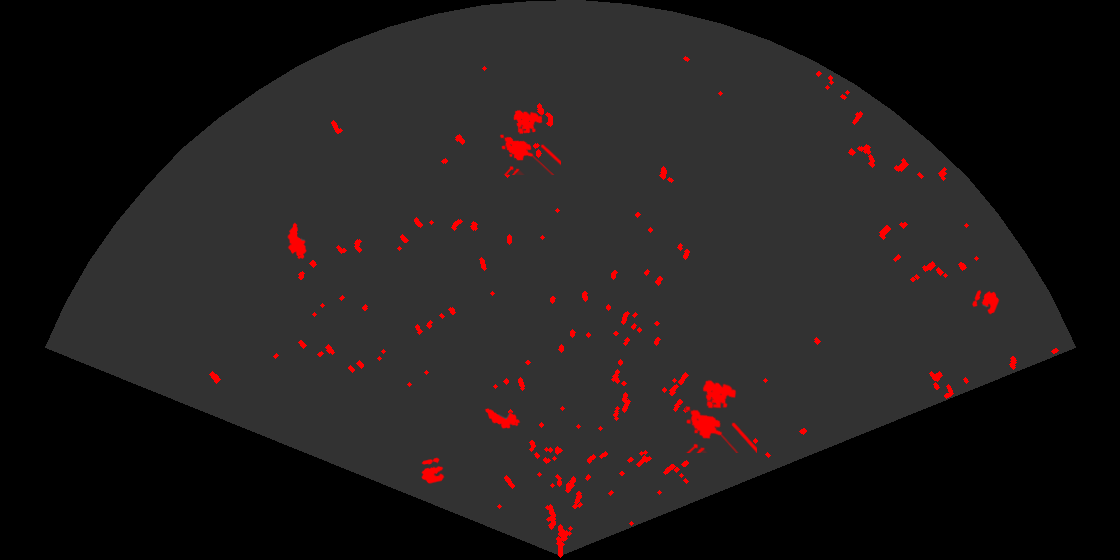AUV: (483, 406, 522, 430), (286, 221, 308, 261)
ball: (971, 288, 1001, 316), (420, 456, 446, 485)
cage: (684, 378, 757, 453), (498, 108, 561, 175)
